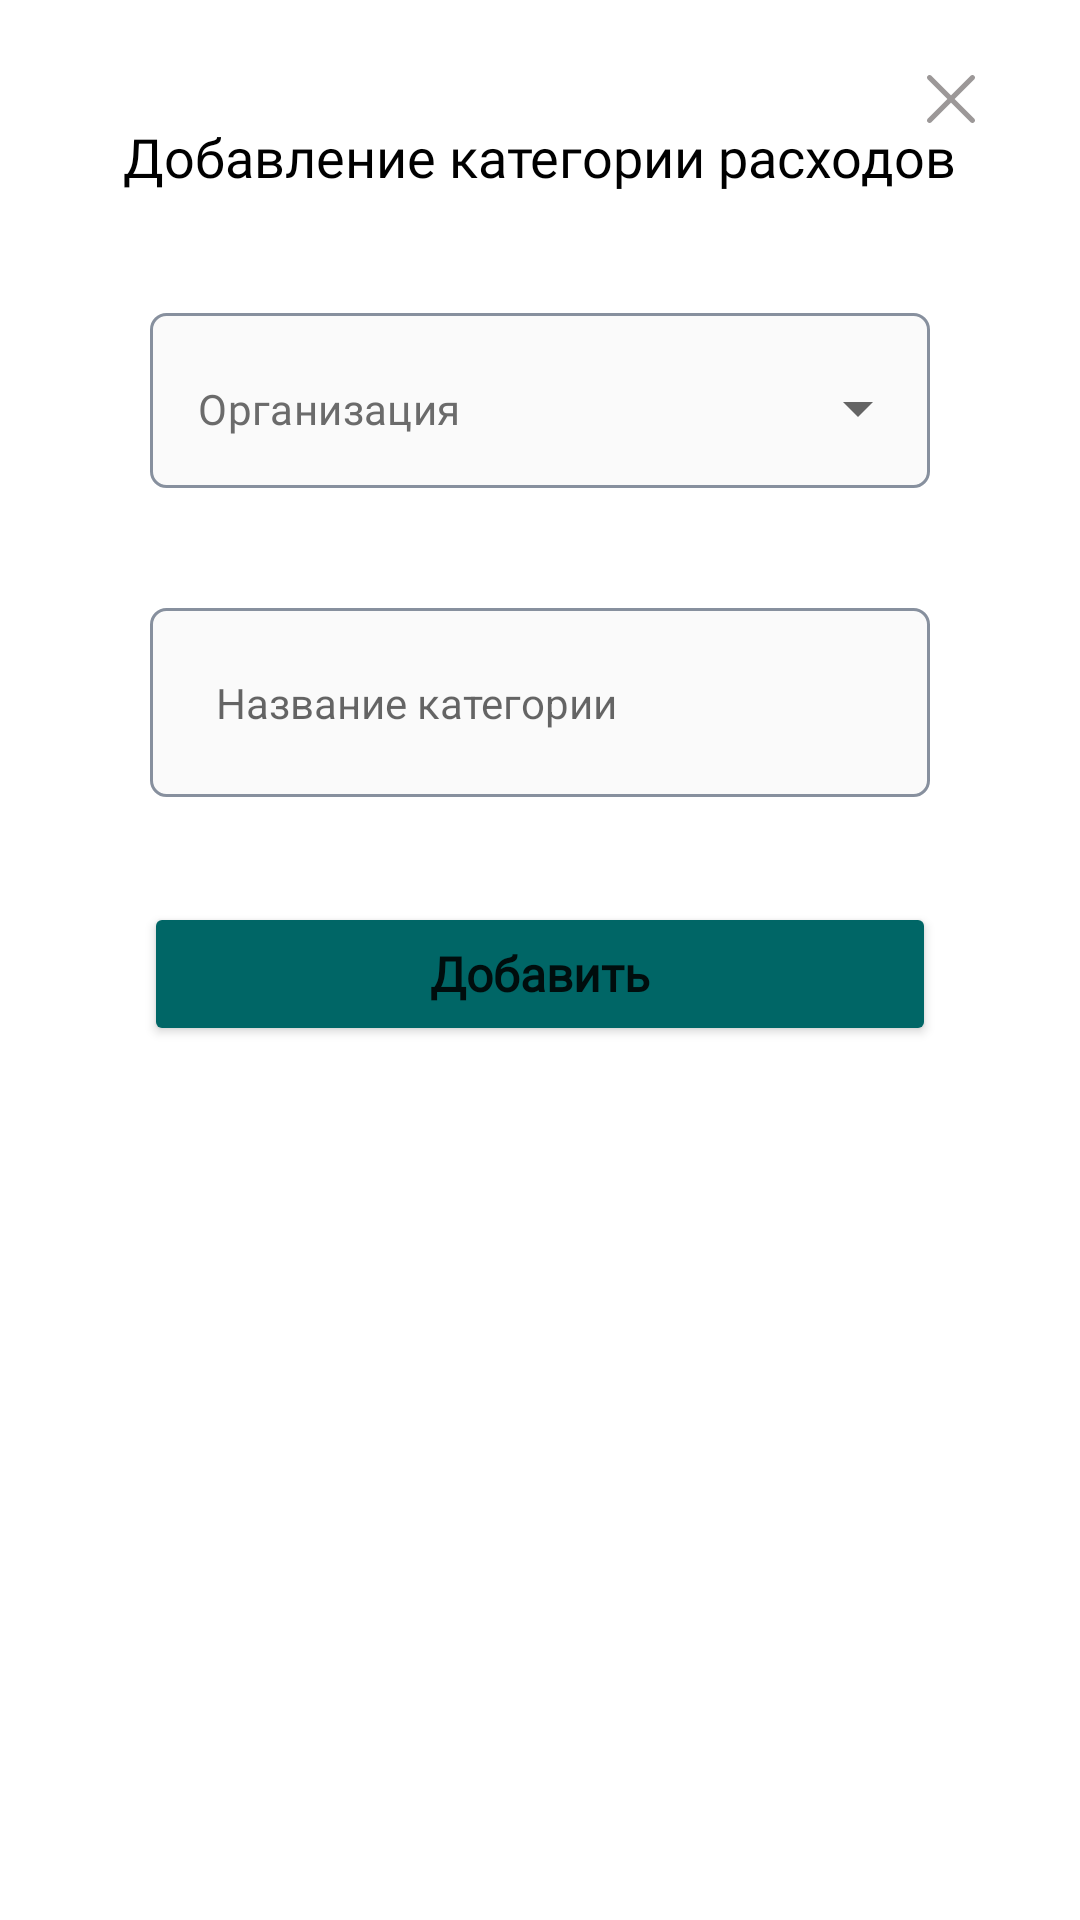

Point at icon controls on the screen. Image size 1080px x 1920px, points as (x=x, y=y).
close: (x=951, y=99)
